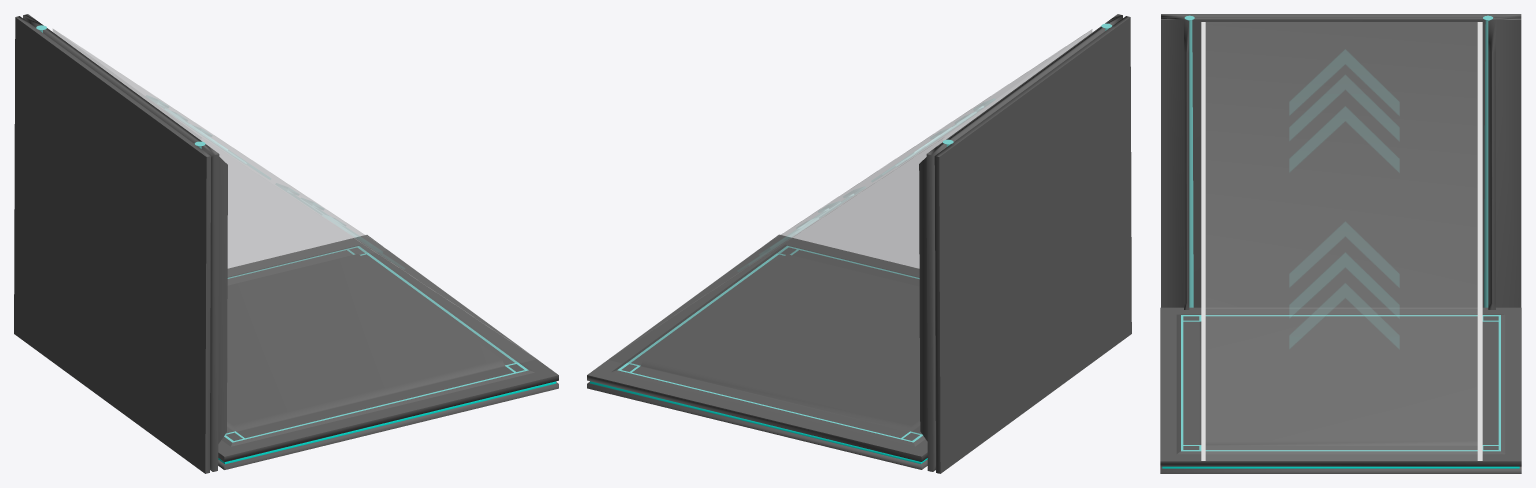
Rendered from STAIR.fbx.
The picture shows the model from 3 angles, left to right: view 1: azimuth 30°, elevation 25°; view 2: azimuth 150°, elevation 25°; view 3: azimuth 270°, elevation 25°; orthographic projection. The views are drawn at different scales.
Parts seen in each view (by area): view 1: pCube13, pCube6, pCube4, pCube2, pCube3; view 2: pCube13, pCube6, pCube4, pCube2, pCube3; view 3: pCube6, pCube13, pCube4, pCube2, pCube8, pCube10, pCube12, pCylinder2, pCylinder1, pCube11, pCube3.
Boxes of the visible parts, <box> form: pCube13: <box>14,14,227,473</box>; pCube6: <box>53,29,535,432</box>; pCube4: <box>221,245,534,446</box>; pCube2: <box>218,235,558,469</box>; pCube3: <box>218,381,556,464</box>; pCube13: <box>919,14,1131,473</box>; pCube6: <box>608,29,1092,434</box>; pCube4: <box>611,244,925,446</box>; pCube2: <box>587,234,927,469</box>; pCube3: <box>590,381,927,463</box>; pCube6: <box>1201,22,1482,460</box>; pCube13: <box>1161,14,1521,309</box>; pCube4: <box>1176,314,1505,454</box>; pCube2: <box>1160,307,1521,473</box>; pCube8: <box>1290,253,1398,317</box>; pCube10: <box>1290,49,1398,114</box>; pCube12: <box>1290,106,1398,171</box>; pCylinder2: <box>1483,15,1492,307</box>; pCylinder1: <box>1184,15,1194,307</box>; pCube11: <box>1290,94,1398,139</box>; pCube3: <box>1162,466,1519,468</box>.
Size of the model in its own units: 10.56 by 9.06 by 9.94.
